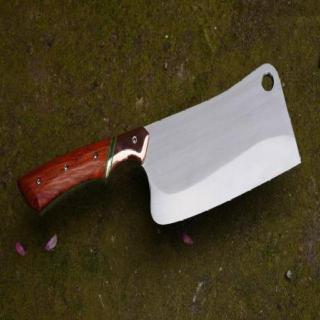knife: (138, 39, 318, 249)
